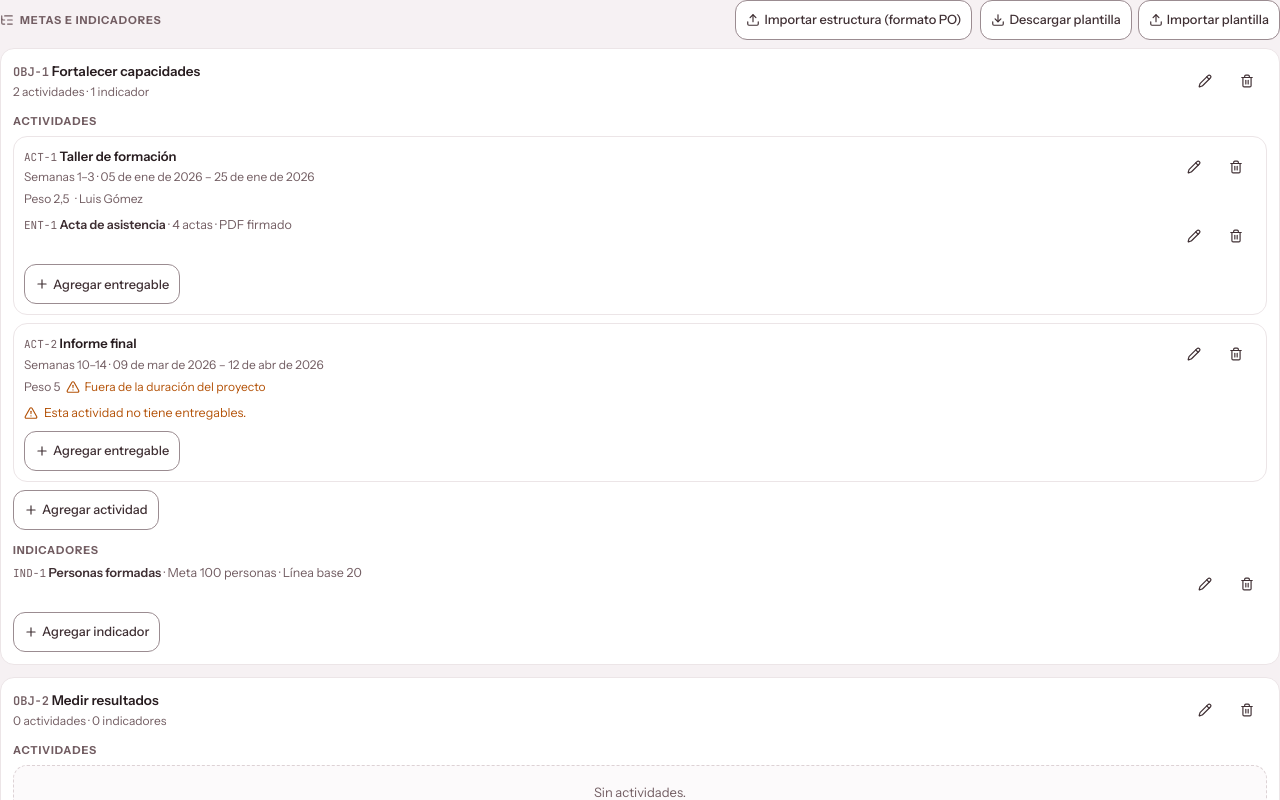
Test: ProjectEstructura › objectives (manager, BORRADOR) › deletes an objective and shows the server 409 when it still has children
The image size is (1280, 800).
Click the button named "Eliminar objetivo OBJ-2" at (1247,710), box x1=1227 y1=690 x2=1267 y2=730
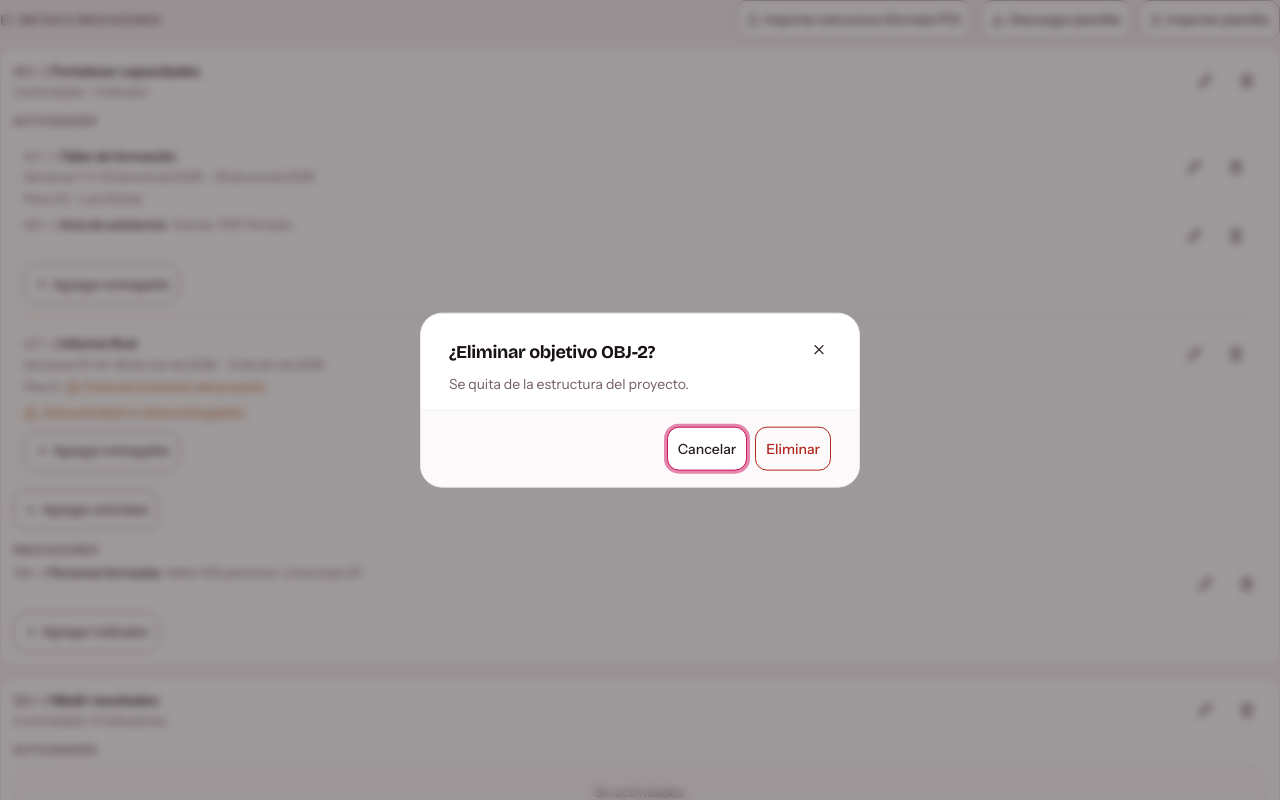
Click the button "Eliminar" at (793,448), box x1=755 y1=426 x2=831 y2=470
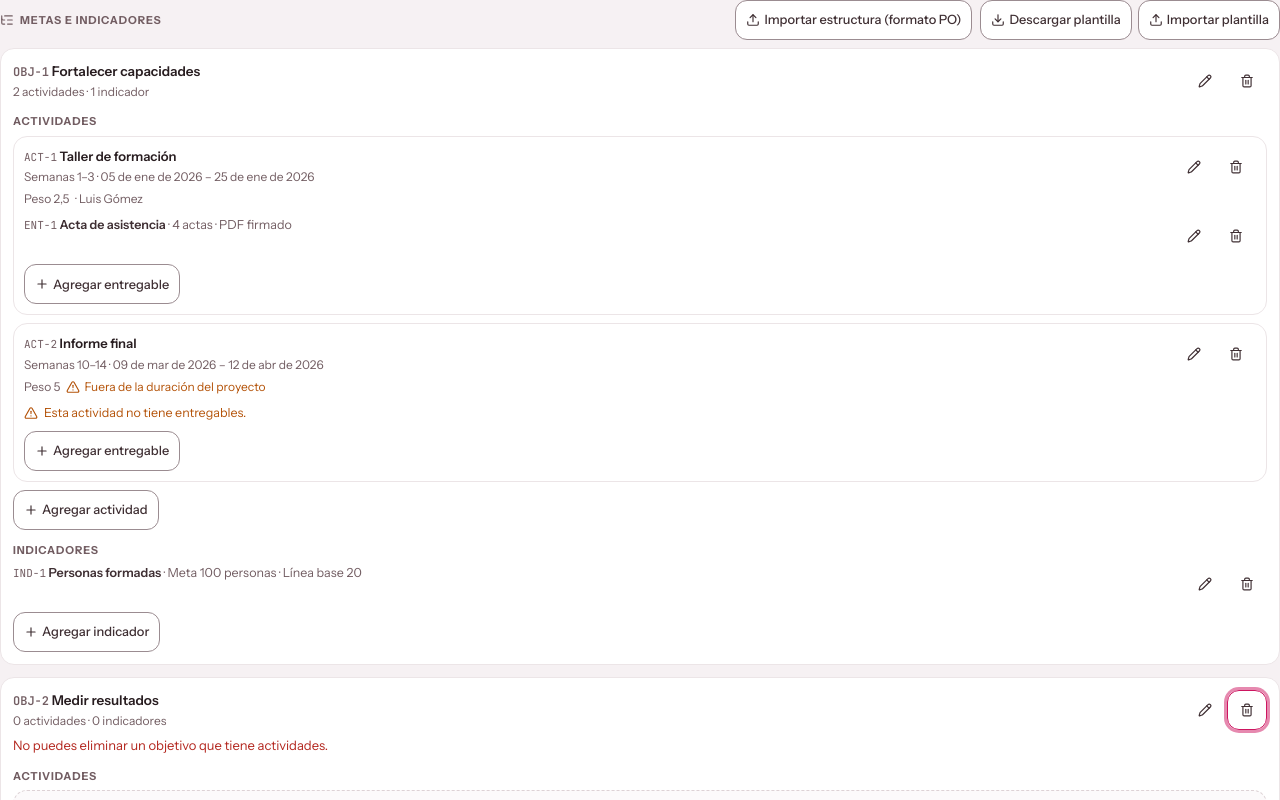
Expected: the message reads "No puedes eliminar un objetivo que tiene actividades.", x1=13 y1=737 x2=328 y2=753
